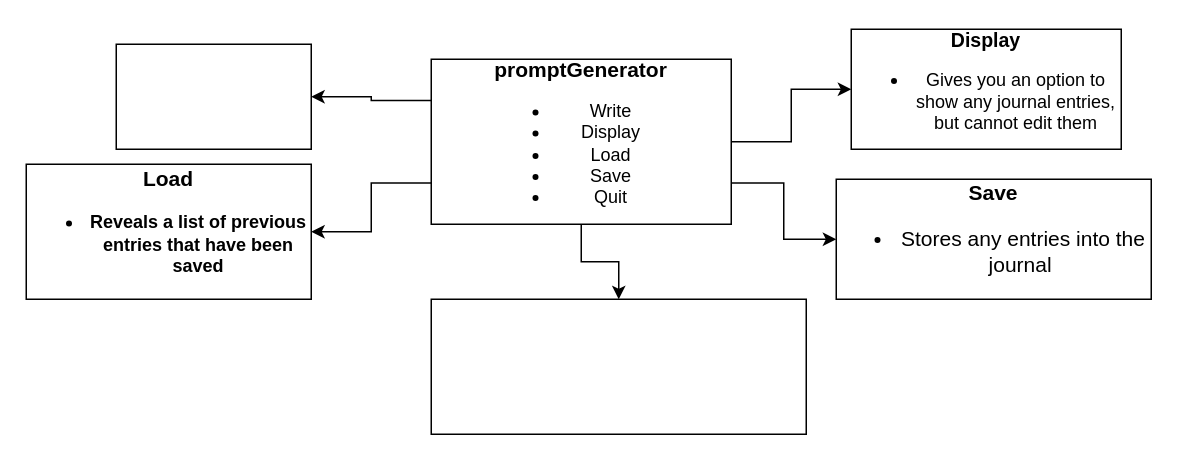
Image size: 1178x461. Some labels were removed from this diagram. The box of each missing label's shape, as (x1, y1, x2, y2) in pixels:
Quit Close out of program: (430, 298, 806, 434)
Write Log the journal entry: (115, 43, 311, 149)
